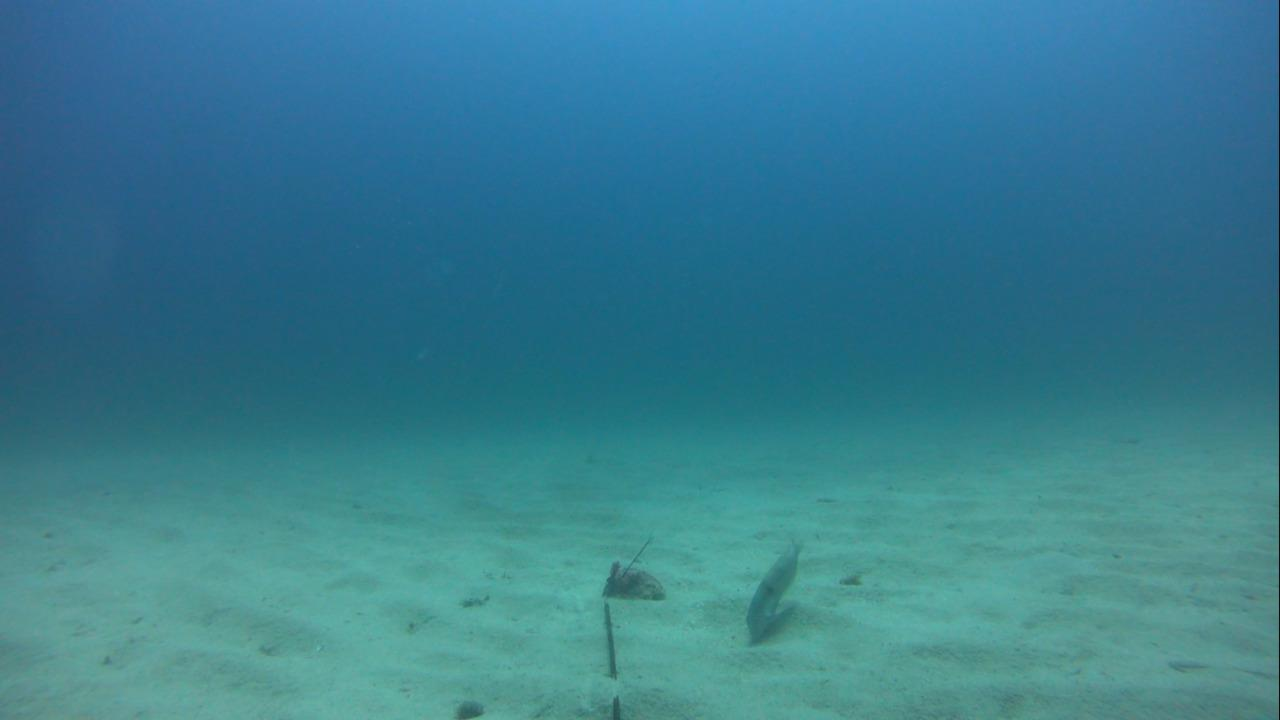raor: (739, 534, 810, 650)
